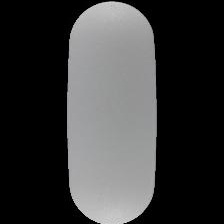0310-0284: (0, 0, 224, 224)
